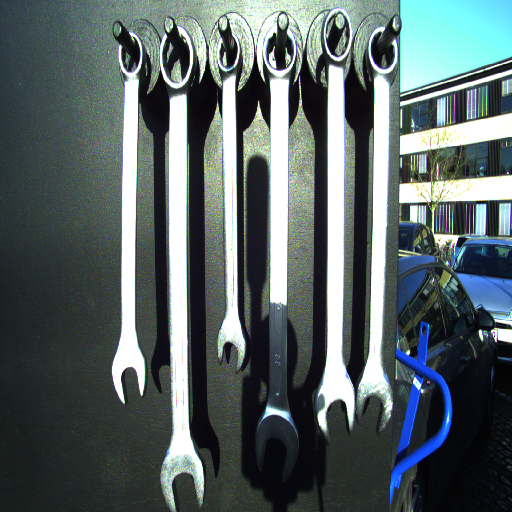bottom: (253, 410, 302, 482), (311, 375, 356, 446), (158, 448, 207, 512), (356, 368, 395, 444), (109, 348, 147, 405), (214, 320, 248, 373)
top: (157, 25, 198, 92), (319, 5, 354, 67), (260, 23, 298, 78), (362, 24, 401, 77), (115, 32, 147, 81), (213, 32, 245, 74)
